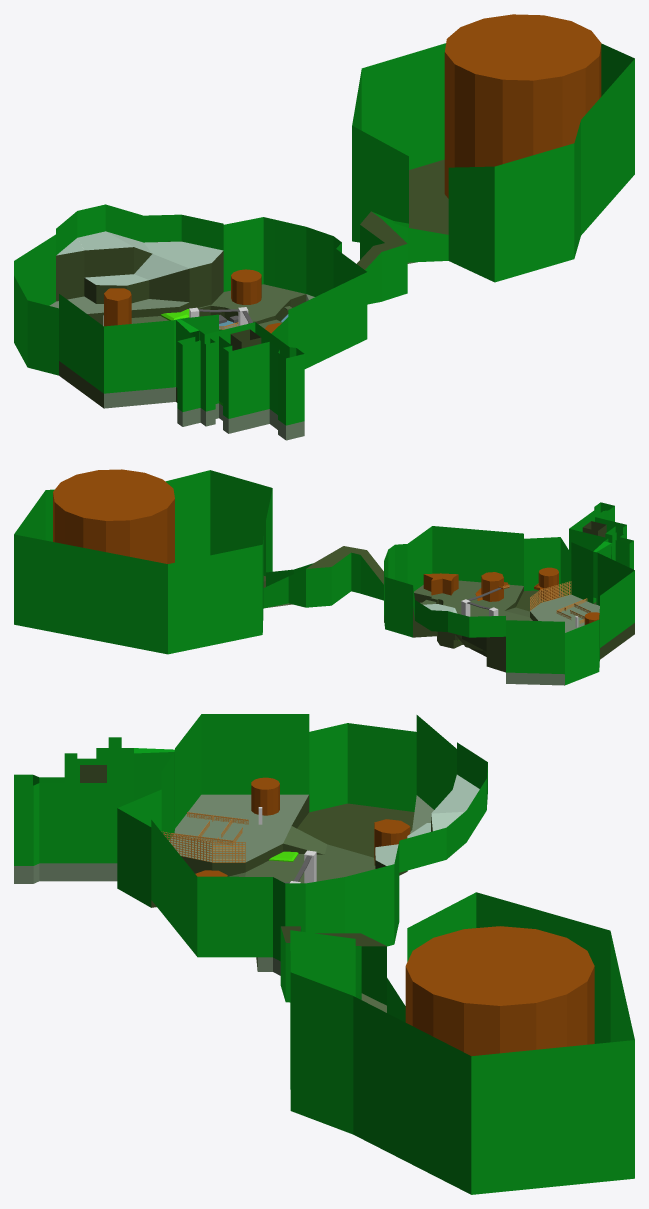
The model's file is Kokiri_Forest_FINAL_MT_PICA.fbx.
3 renders of one model, top to bottom at view 1: azimuth 30°, elevation 25°; view 2: azimuth 150°, elevation 25°; view 3: azimuth 270°, elevation 25°, orthographic. The views are drawn at different scales.
Parts seen in each view (by area): view 1: Muros, Deku tree, VILA, Loja, casa 1; view 2: Muros, Deku tree, VILA, casa gemeos, Casa ponte, casa link, Grade maior; view 3: Muros, Deku tree, VILA, casa 4, casa 1, Cerca treino, Grade maior.
Boxes of the visible parts, x1,y1,x2,y2 form: Muros: [14, 43, 634, 425]; Deku tree: [444, 14, 601, 198]; VILA: [49, 159, 448, 440]; Loja: [231, 269, 261, 304]; casa 1: [104, 288, 131, 326]; Muros: [14, 470, 634, 685]; Deku tree: [53, 469, 174, 563]; VILA: [263, 521, 634, 685]; casa gemeos: [423, 573, 458, 595]; Casa ponte: [475, 572, 509, 601]; casa link: [534, 567, 558, 600]; Grade maior: [541, 581, 571, 602]; Muros: [14, 714, 634, 1194]; Deku tree: [405, 926, 594, 1056]; VILA: [14, 765, 479, 1012]; casa 4: [251, 777, 279, 815]; casa 1: [374, 819, 410, 865]; Cerca treino: [171, 812, 248, 845]; Grade maior: [161, 831, 212, 862].
Bounding box in the file's own units: 51276 × 10644 × 34962.
